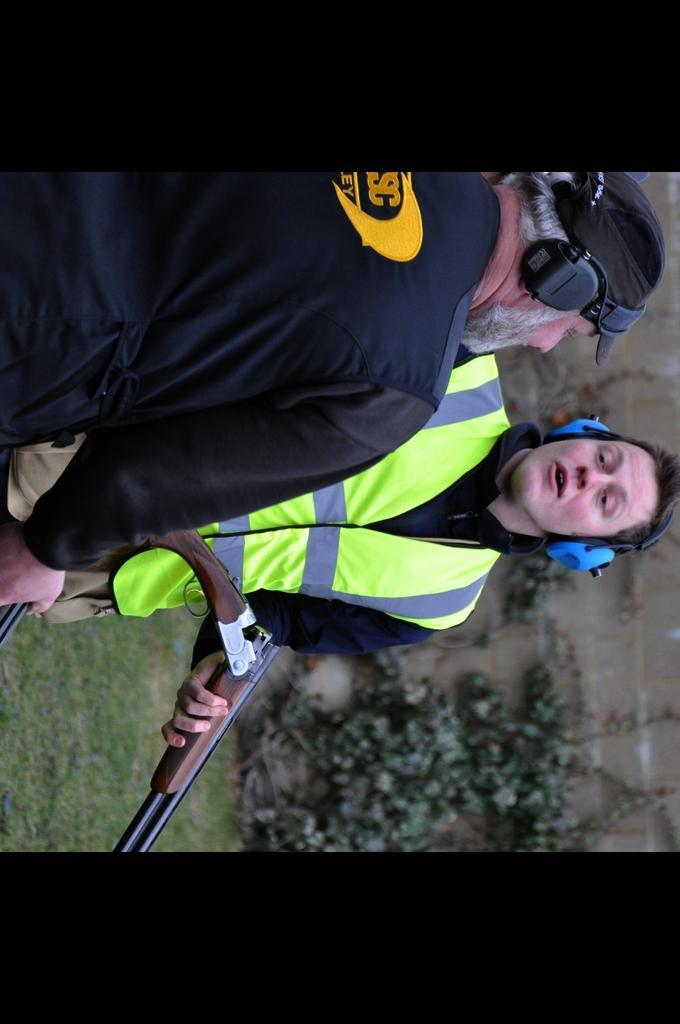gun: (84, 525, 274, 852), (0, 475, 145, 850)
